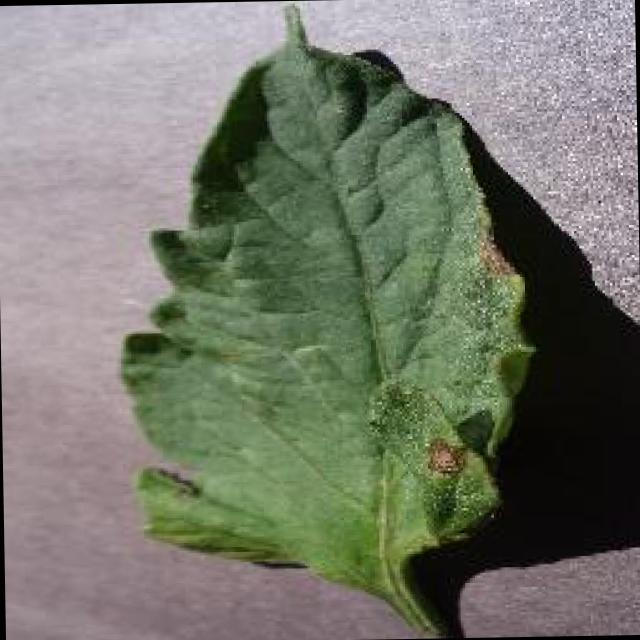Tomato_Early_Blight: (419, 190, 534, 596)
